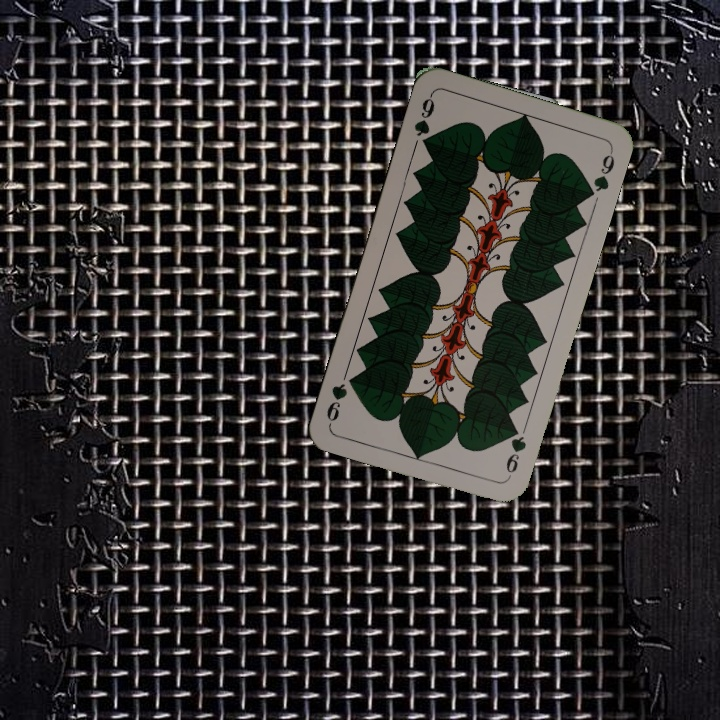G9: (410, 91, 438, 151), (502, 421, 529, 481)
